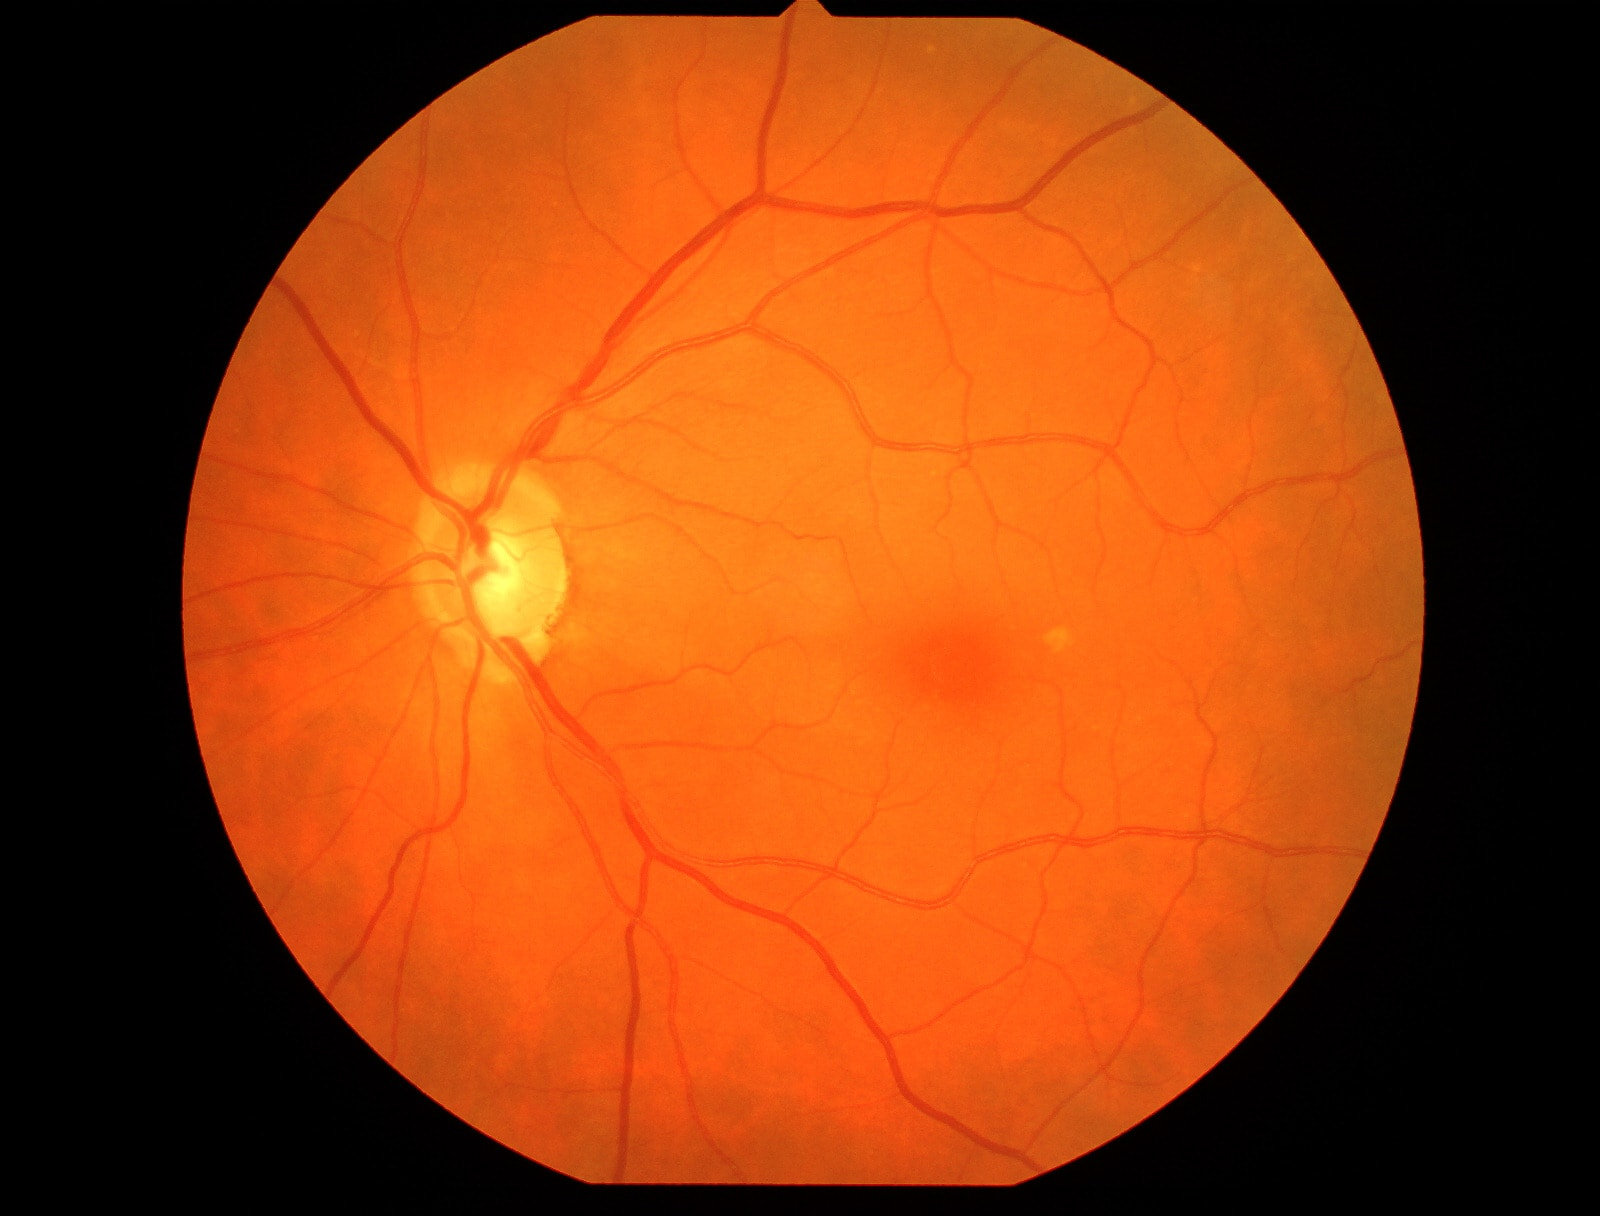Glaucoma section-1: (469, 536, 545, 630)
Glaucoma section-2: (412, 473, 578, 660)
